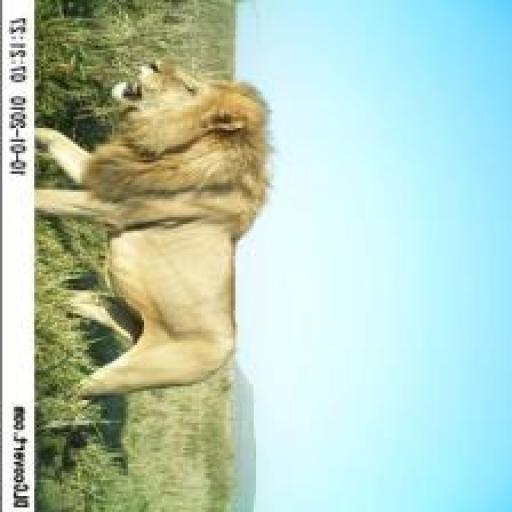lion: (34, 53, 290, 408)
